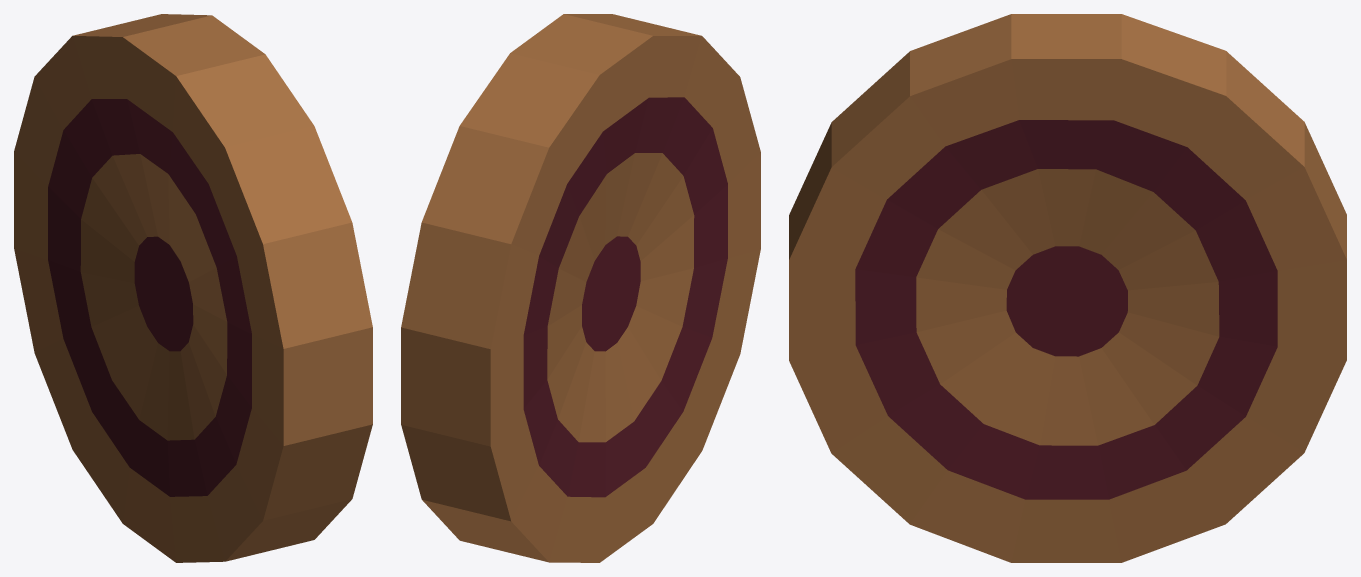
The model's file is targetNormal.fbx.
3 views of the same model, side by side, from view 1: azimuth 30°, elevation 25°; view 2: azimuth 150°, elevation 25°; view 3: azimuth 270°, elevation 25° (orthographic). The views are drawn at different scales.
Visible parts, largest first — view 1: Circle; view 2: Circle; view 3: Circle.
Boxes of the visible parts, x1,y1,x2,y2 form: Circle: (14, 14, 372, 562); Circle: (401, 14, 760, 562); Circle: (789, 14, 1346, 562).
Size of the model in its own units: 37.54 by 195 by 196.
